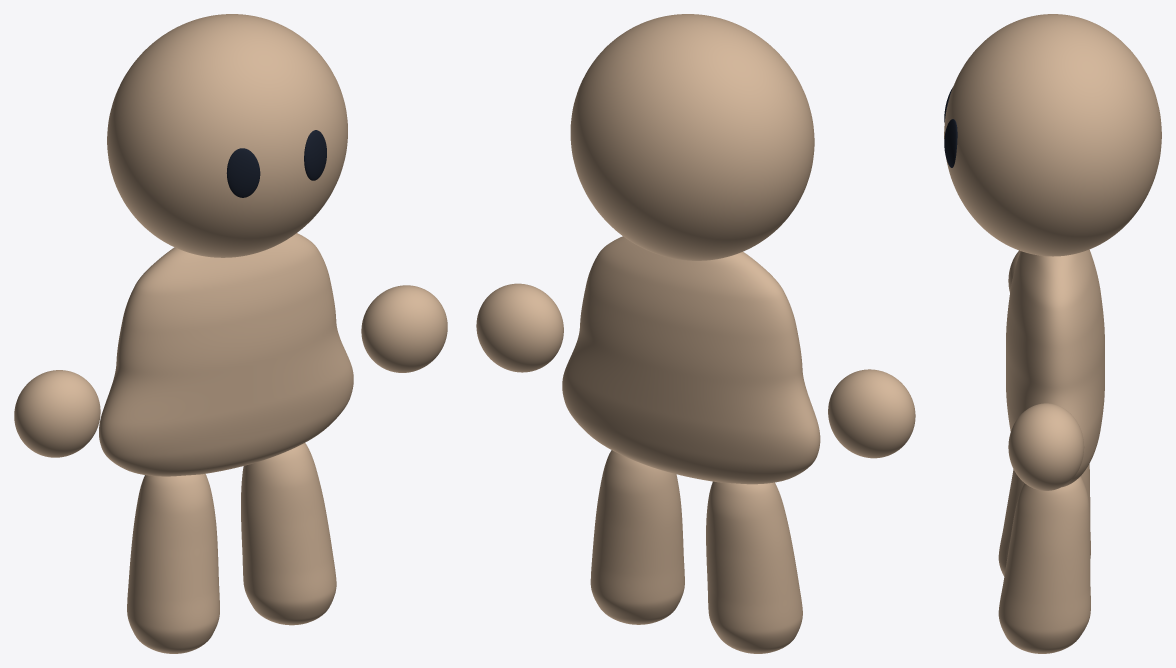
The model's file is Feminine-skin0.glb.
3 renders of one model, left to right at view 1: azimuth 30°, elevation 25°; view 2: azimuth 150°, elevation 25°; view 3: azimuth 270°, elevation 25°, orthographic. The views are drawn at different scales.
Parts seen in each view (by area): view 1: Rounded torso with skirt outline, Round head, Left leg blob, Right leg blob, Left round hand, Right round hand, Left optional eye, Right optional eye; view 2: Rounded torso with skirt outline, Round head, Left leg blob, Right leg blob, Left round hand, Right round hand; view 3: Round head, Rounded torso with skirt outline, Right leg blob, Right round hand, Left leg blob, Right optional eye.
Part boxes in pixels (x1,y1,x2,y2): Rounded torso with skirt outline: (99, 233, 353, 476); Round head: (107, 14, 347, 257); Left leg blob: (127, 474, 219, 653); Right leg blob: (241, 443, 336, 625); Left round hand: (14, 370, 100, 457); Right round hand: (361, 285, 447, 372); Left optional eye: (226, 148, 260, 197); Right optional eye: (304, 130, 326, 180); Rounded torso with skirt outline: (562, 236, 820, 484); Round head: (570, 14, 814, 260); Left leg blob: (706, 481, 802, 653); Right leg blob: (590, 450, 684, 624); Left round hand: (828, 369, 915, 458); Right round hand: (476, 283, 563, 372); Round head: (944, 14, 1161, 256); Rounded torso with skirt outline: (1006, 249, 1104, 487); Right leg blob: (998, 476, 1090, 653); Right round hand: (1008, 403, 1084, 490); Left leg blob: (998, 464, 1090, 576); Right optional eye: (944, 119, 957, 167).
Size of the model in its own units: 1.94 by 2.65 by 0.88.
